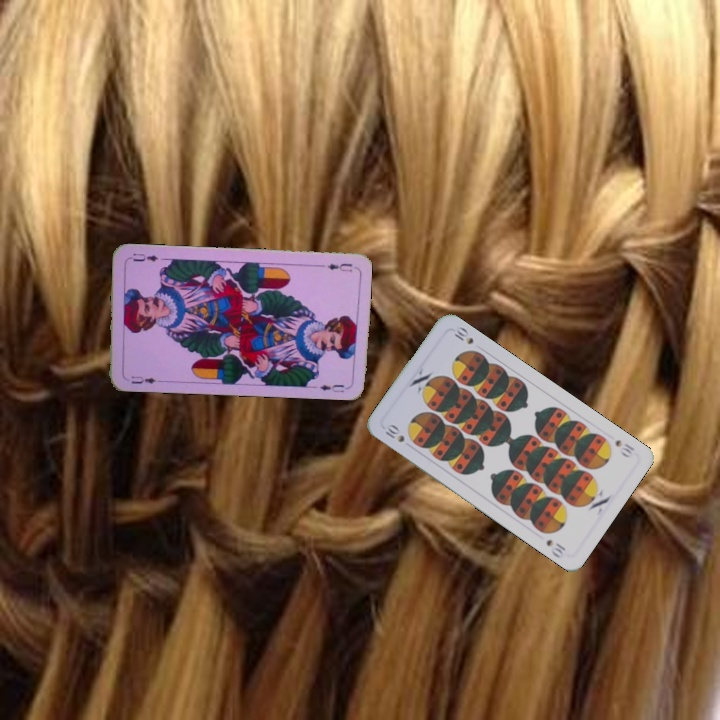EU: (323, 259, 355, 274), (127, 372, 158, 386)
S10: (381, 421, 407, 445), (611, 436, 637, 460)
